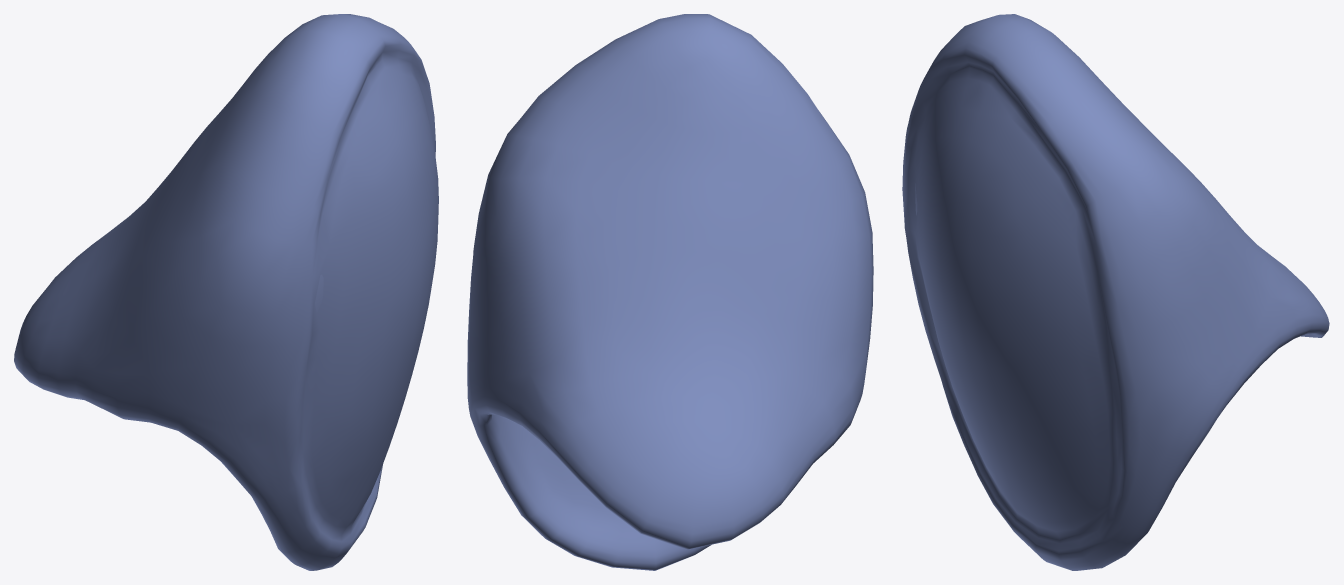
Rendered from BR3_Enamel_Prongs.001.glb.
3 views of the same model, side by side, from view 1: azimuth 30°, elevation 25°; view 2: azimuth 150°, elevation 25°; view 3: azimuth 270°, elevation 25° (orthographic). The views are drawn at different scales.
Parts seen in each view (by area): view 1: BR3_Enamel_Prongs.001; view 2: BR3_Enamel_Prongs.001; view 3: BR3_Enamel_Prongs.001.
Boxes of the visible parts, box(x1,y1,x2,y2) form: BR3_Enamel_Prongs.001: box(14, 14, 438, 570); BR3_Enamel_Prongs.001: box(467, 14, 873, 570); BR3_Enamel_Prongs.001: box(902, 14, 1329, 570).
Size of the model in its own units: 0.7211 by 1.1 by 0.7996.
